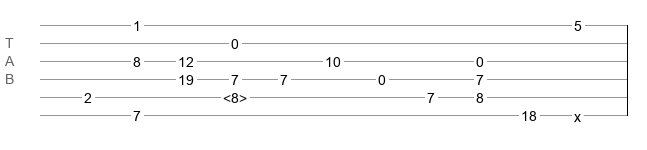0: (231, 36, 239, 46), (378, 72, 386, 82), (476, 54, 484, 64)
1: (133, 18, 141, 28)
10: (325, 54, 341, 64)
12: (178, 54, 194, 64)
18: (521, 108, 537, 118)
19: (178, 72, 194, 82)
2: (84, 90, 92, 100)
5: (574, 18, 582, 28)
7: (133, 108, 141, 118), (231, 72, 239, 82), (280, 72, 288, 82), (427, 90, 435, 100), (476, 72, 484, 82)
8: (133, 54, 141, 64), (476, 90, 484, 100)
harmonic: (223, 90, 247, 100)
x: (574, 109, 581, 117)
